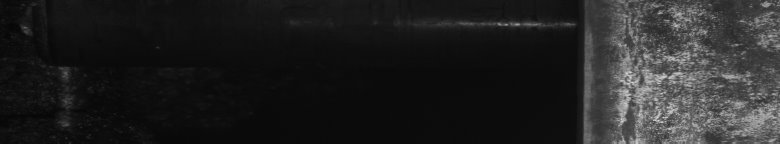kb: (610, 4, 776, 136)
